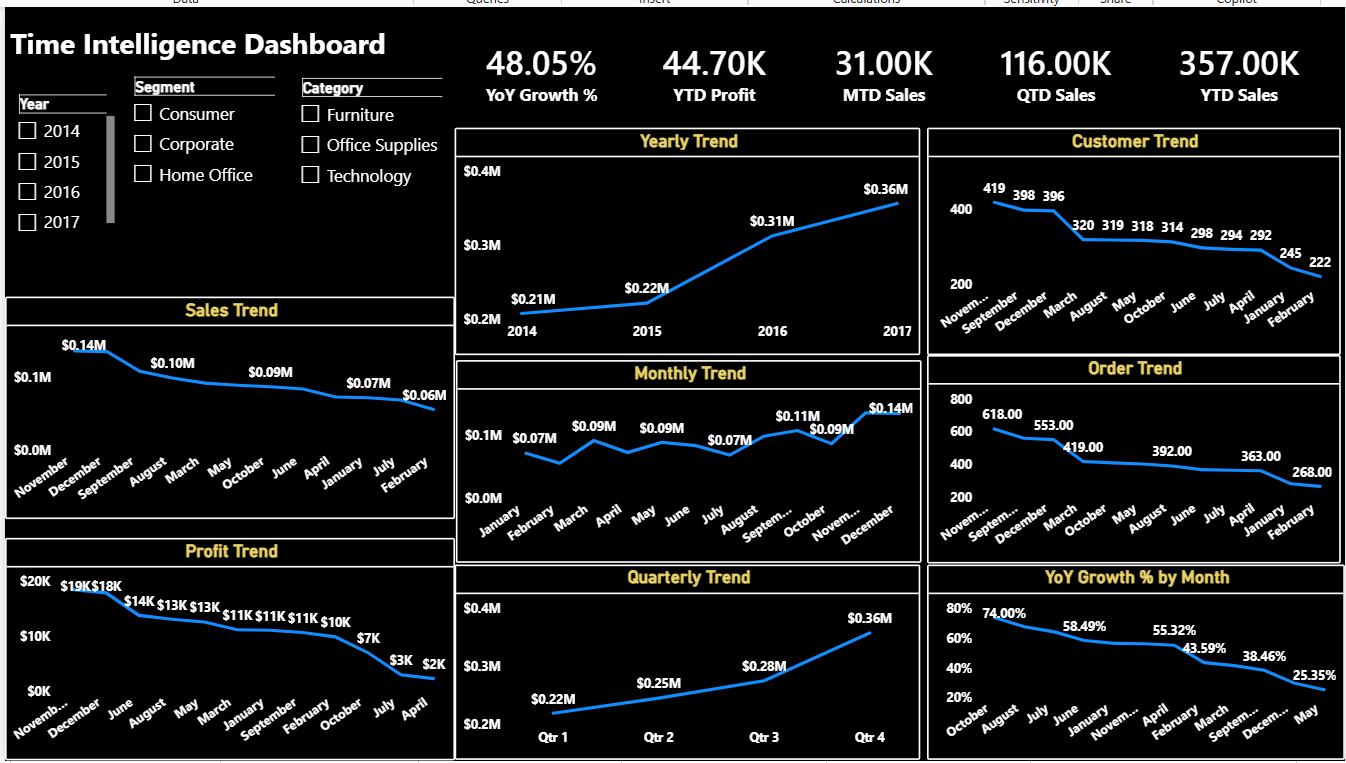

This screenshot's page, from the dashboard's own definition file:
{"tool":"powerbi","page":{"name":"9. Time Intelligence Dashboard","canvas":[1280,720],"ordinal":8},"visuals":[{"type":"cardVisual","fields":{"Data":["KPI Metrics.YTD Sales"]},"box":[1089.7,9.5,179.8,104.9],"z":0},{"type":"cardVisual","fields":{"Data":["KPI Metrics.QTD Sales"]},"box":[918.1,9.5,171.6,104.9],"z":1000},{"type":"cardVisual","fields":{"Data":["KPI Metrics.YTD Profit"]},"box":[595.3,9.5,164.8,104.9],"z":2000},{"type":"cardVisual","fields":{"Data":["KPI Metrics.MTD Sales"]},"box":[760.1,9.5,158,104.9],"z":3000},{"type":"cardVisual","fields":{"Data":["KPI Metrics.YoY Growth %"]},"box":[430.4,9.5,164.8,104.9],"z":4000},{"type":"textbox","box":[0,10.9,393.7,51.8],"z":5000},{"type":"lineChart","title":"Yearly Trend","fields":{"Category":["DateTable.Year"],"Y":["KPI Metrics.Total Sales"]},"box":[430,115,445,217],"z":6000},{"type":"lineChart","title":"Quarterly Trend","fields":{"Category":["DateTable.Date.Variation.Date Hierarchy.Quarter"],"Y":["KPI Metrics.Total Sales"]},"box":[430,533,445,187],"z":7000},{"type":"lineChart","title":"Monthly Trend","fields":{"Category":["DateTable.Date.Variation.Date Hierarchy.Month"],"Y":["KPI Metrics.Total Sales"]},"box":[431,337,445,194],"z":8000},{"type":"lineChart","fields":{"Category":["DateTable.Month"],"Y":["KPI Metrics.YoY Growth %"]},"box":[881,533,399,187],"z":9000},{"type":"lineChart","title":"Sales Trend","fields":{"Category":["DateTable.Month"],"Y":["KPI Metrics.Total Sales"]},"box":[0,277.1,430,212.9],"z":10000},{"type":"lineChart","title":"Profit Trend","fields":{"Category":["DateTable.Month"],"Y":["KPI Metrics.Total Profit"]},"box":[0,507.1,430,212.9],"z":11000},{"type":"lineChart","title":"Customer Trend","fields":{"Category":["DateTable.Month"],"Y":["KPI Metrics.Total Customers"]},"box":[881,115,395,217],"z":12000},{"type":"lineChart","title":"Order Trend","fields":{"Category":["DateTable.Month"],"Y":["KPI Metrics.Total Orders"]},"box":[881,332,395,199],"z":13000},{"type":"slicer","fields":{"Values":["Sample - Superstore.Category"]},"box":[270,62.9,160,132.9],"z":14000},{"type":"slicer","fields":{"Values":["Sample - Superstore.Segment"]},"box":[110,61.4,160,124.3],"z":15000},{"type":"slicer","fields":{"Values":["Sample - Superstore.Order Date.Variation.Date Hierarchy.Year"]},"box":[0,78.6,110,144.3],"z":16000}]}

Visuals, with their boxes on the page's 1280x720 design canvas (x1, y1, x2, y2). These are canvas units, not pixel positions in the 1346x763 screenshot, which may show the page scaled, cropped or inside an application window:
cardVisual - KPI Metrics.YTD Sales: left=1090, top=10, right=1270, bottom=114
cardVisual - KPI Metrics.QTD Sales: left=918, top=10, right=1090, bottom=114
cardVisual - KPI Metrics.YTD Profit: left=595, top=10, right=760, bottom=114
cardVisual - KPI Metrics.MTD Sales: left=760, top=10, right=918, bottom=114
cardVisual - KPI Metrics.YoY Growth %: left=430, top=10, right=595, bottom=114
textbox: left=0, top=11, right=394, bottom=63
"Yearly Trend" lineChart: left=430, top=115, right=875, bottom=332
"Quarterly Trend" lineChart: left=430, top=533, right=875, bottom=720
"Monthly Trend" lineChart: left=431, top=337, right=876, bottom=531
lineChart - DateTable.Month x KPI Metrics.YoY Growth %: left=881, top=533, right=1280, bottom=720
"Sales Trend" lineChart: left=0, top=277, right=430, bottom=490
"Profit Trend" lineChart: left=0, top=507, right=430, bottom=720
"Customer Trend" lineChart: left=881, top=115, right=1276, bottom=332
"Order Trend" lineChart: left=881, top=332, right=1276, bottom=531
slicer - Sample - Superstore.Category: left=270, top=63, right=430, bottom=196
slicer - Sample - Superstore.Segment: left=110, top=61, right=270, bottom=186
slicer - Sample - Superstore.Order Date.Variation.Date Hierarchy.Year: left=0, top=79, right=110, bottom=223
